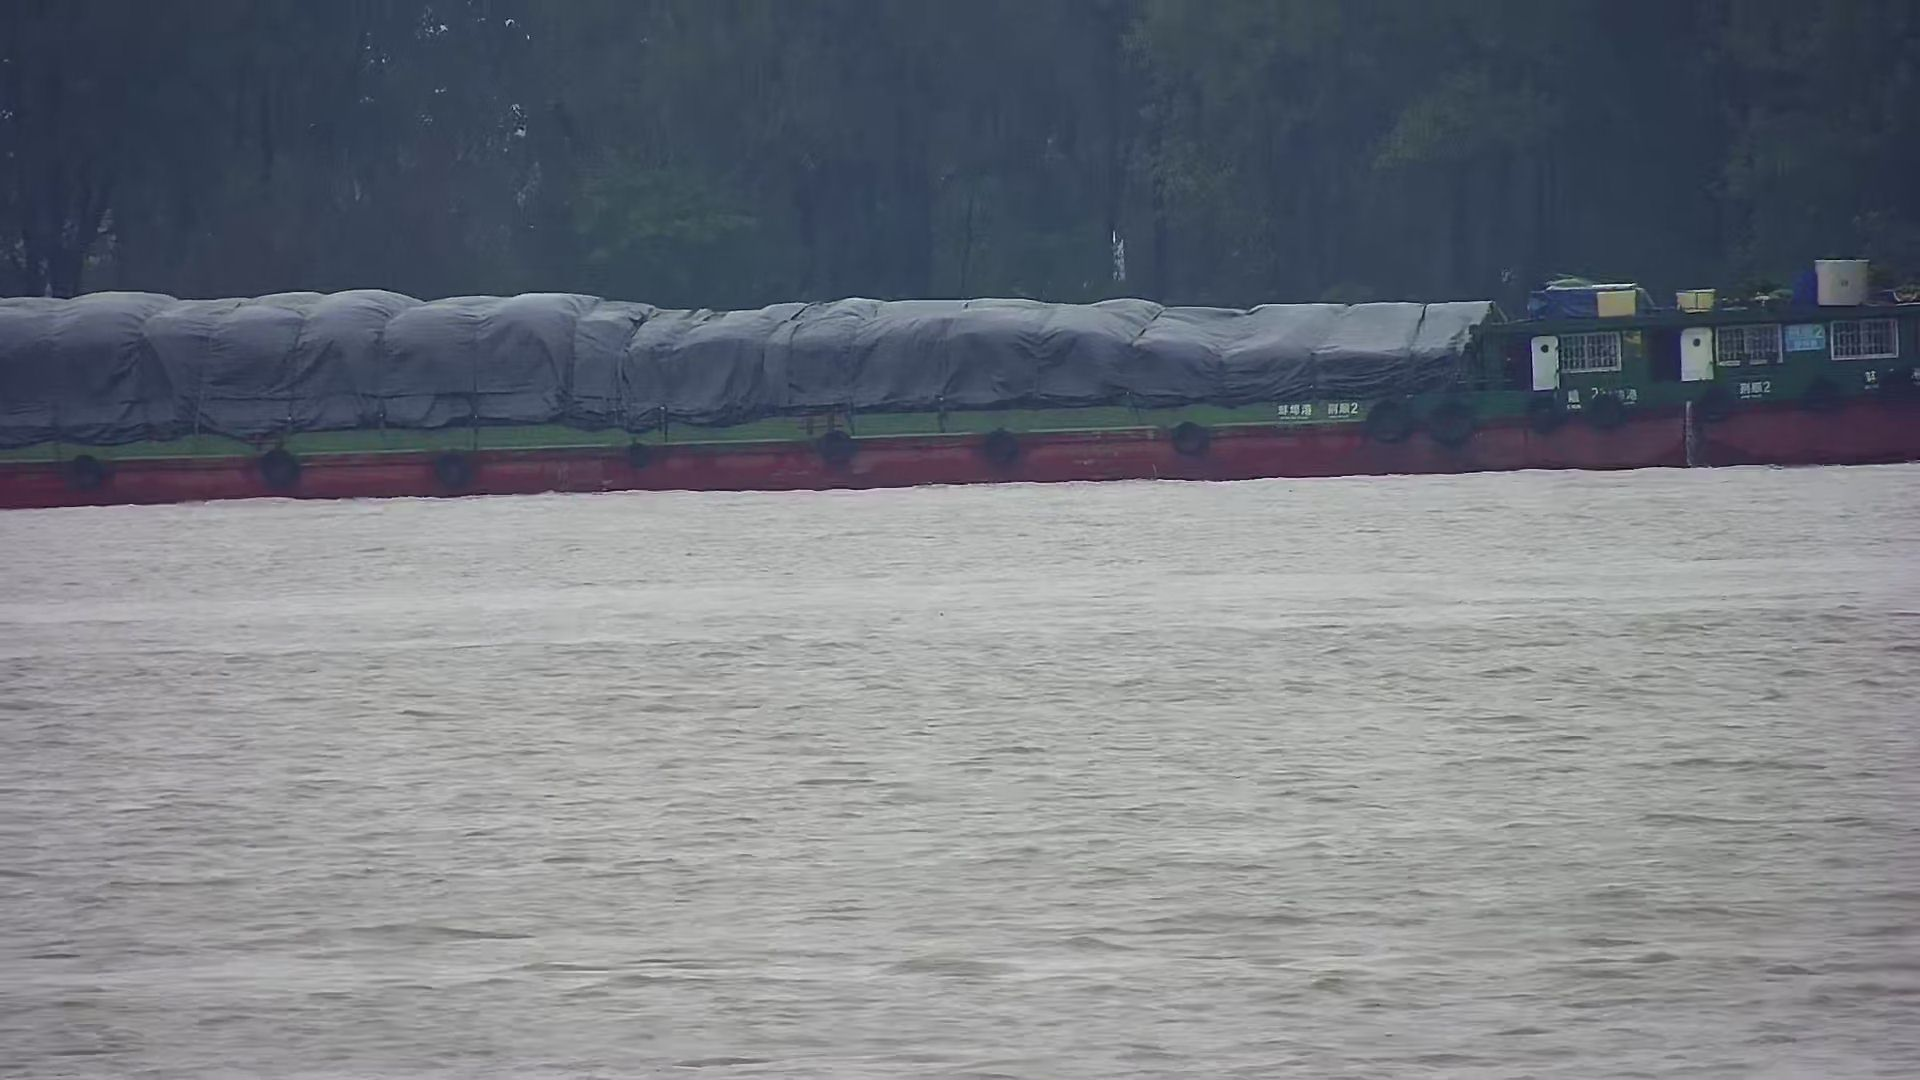ship: (1, 256, 1920, 512)
